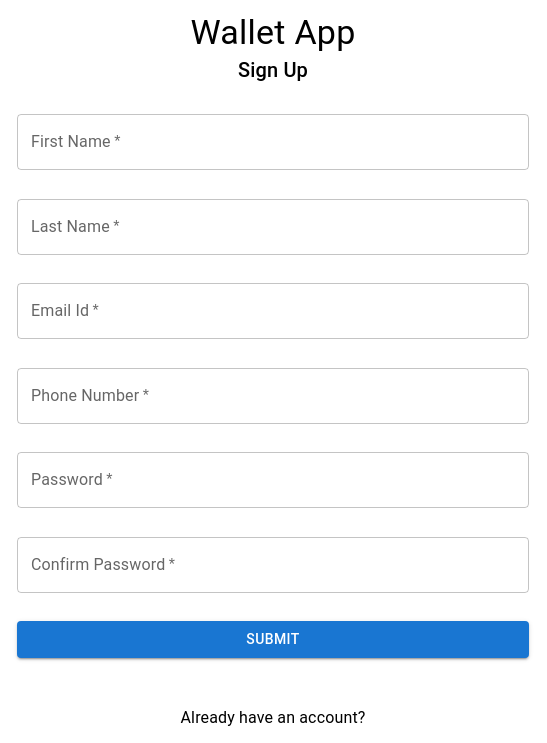
Test: SignUpPage Component › handles form submission correctly
This screenshot has width=547, height=743.
Note: Simulate user input
Type "John" into the field with placeholder "First Name" at (273, 142), box [17, 114, 529, 170]
Type "Kelly" into the field with placeholder "Last Name" at (273, 227), box [17, 199, 529, 255]
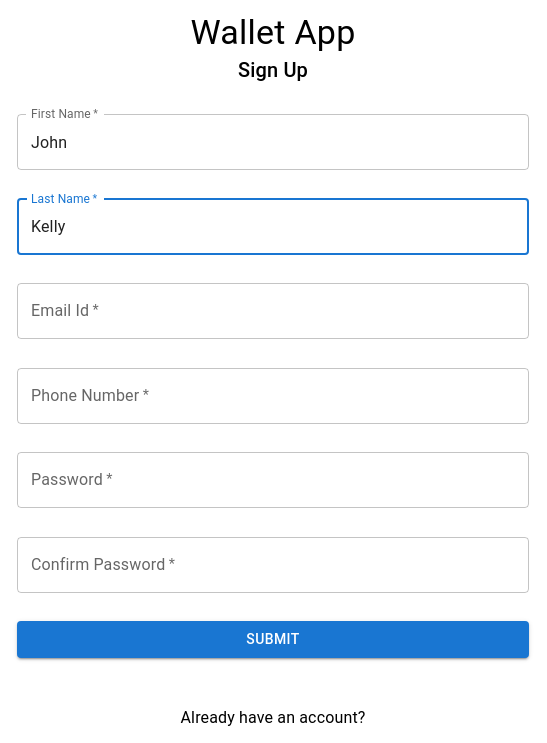
Type "john.kelly@mail.com" into the field with placeholder "Email Id" at (273, 311), box [17, 283, 529, 339]
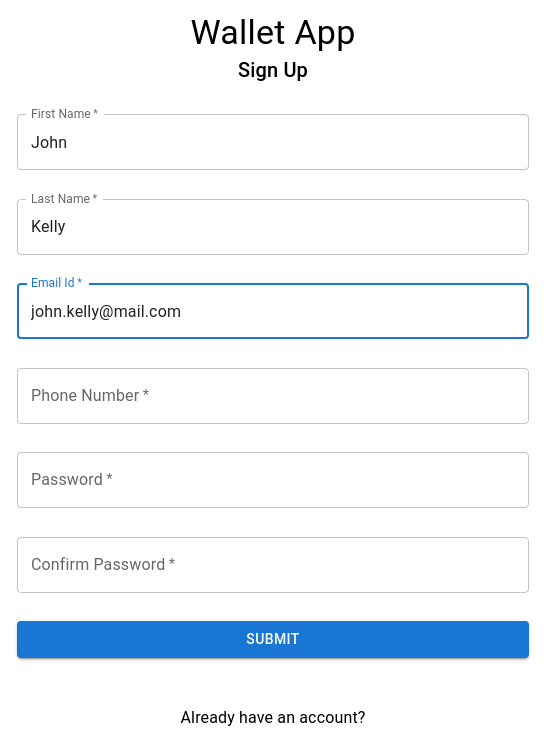
Type "1234567890" into the number field with placeholder "Phone Number" at (273, 396), box [17, 368, 529, 424]
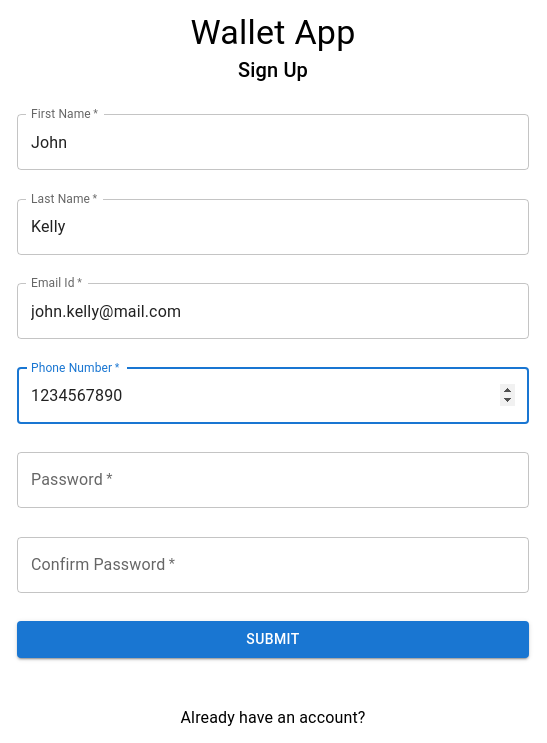
Type "password123" into the password field with placeholder "Password" at (273, 480), box [17, 452, 529, 508]
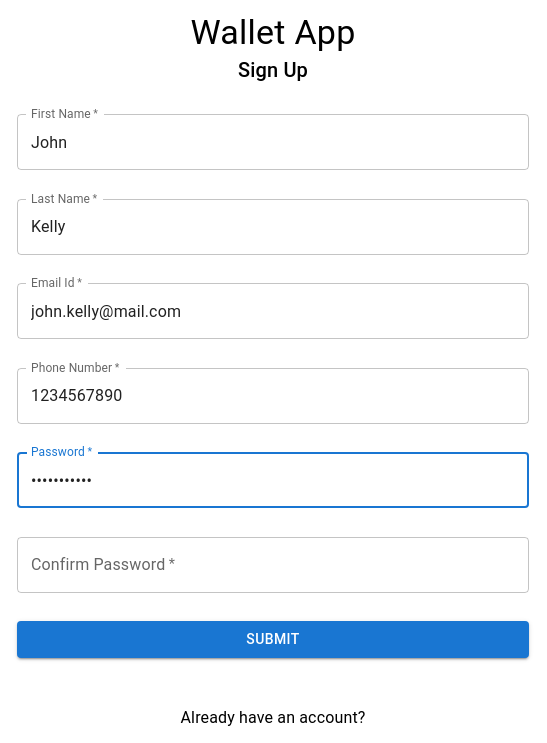
Type "password123" into the field with placeholder "Confirm Password" at (273, 565), box [17, 537, 529, 593]
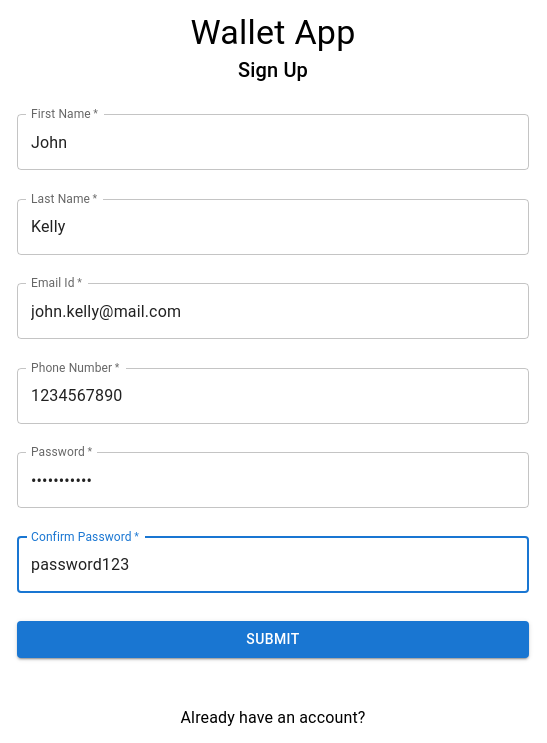
Submit the form from the button "Submit", box [17, 621, 529, 658]
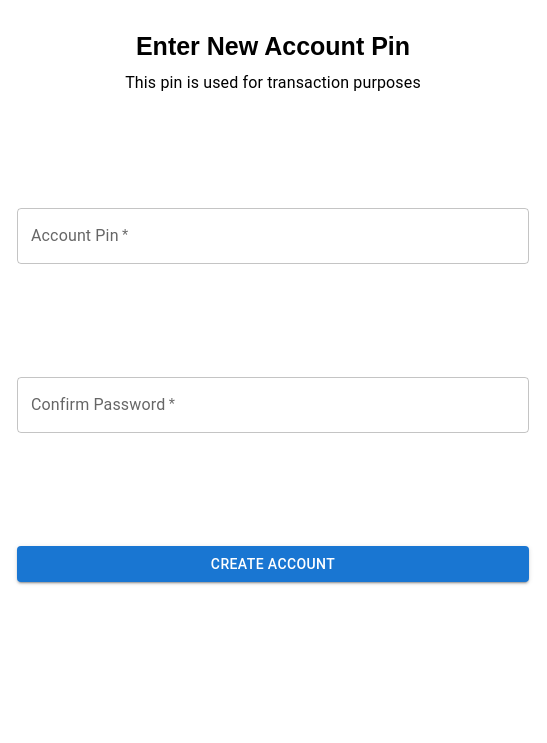
Now the heading "Enter New Account Pin" is shown, box [136, 32, 410, 60]
